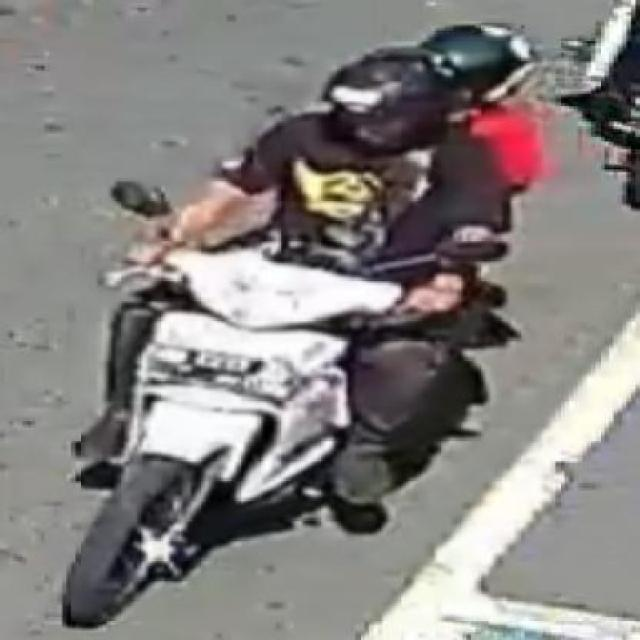helmet: (295, 34, 462, 168), (416, 16, 546, 112)
motorcycle: (60, 14, 564, 616)
